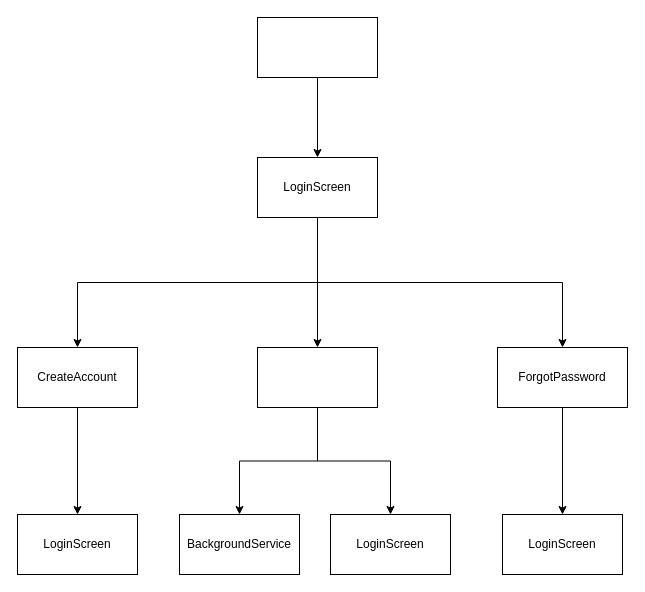
Image size: 645x592. Some labels were removed from this diagram. The shapes that lost their labels are listed below. From the top down, each one's centre as x and y in pixels, then its label:
At pixel 317 47: "SplashScreen".
At pixel 317 377: "SpeechRecognition".
